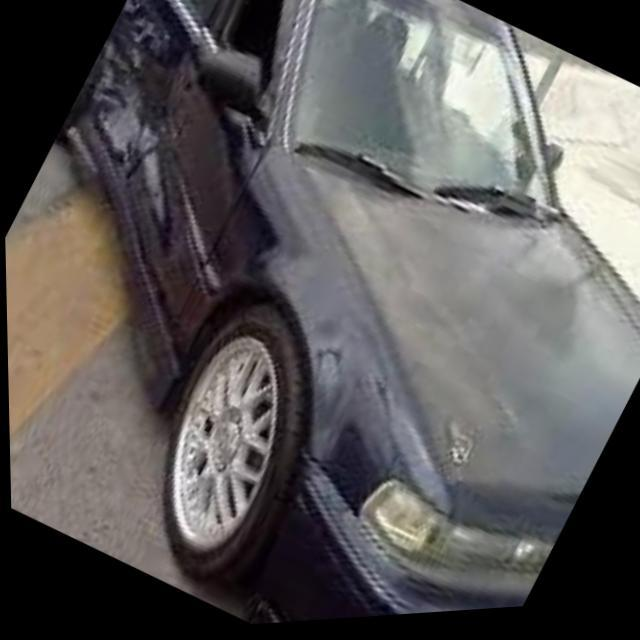dent: (66, 0, 209, 243)
